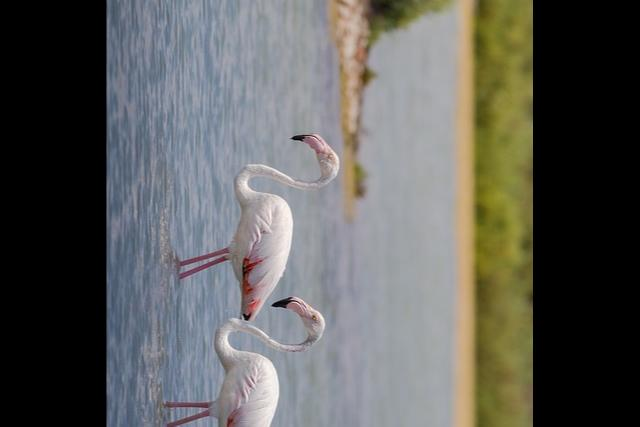Non_Gorille: (131, 22, 458, 427)
